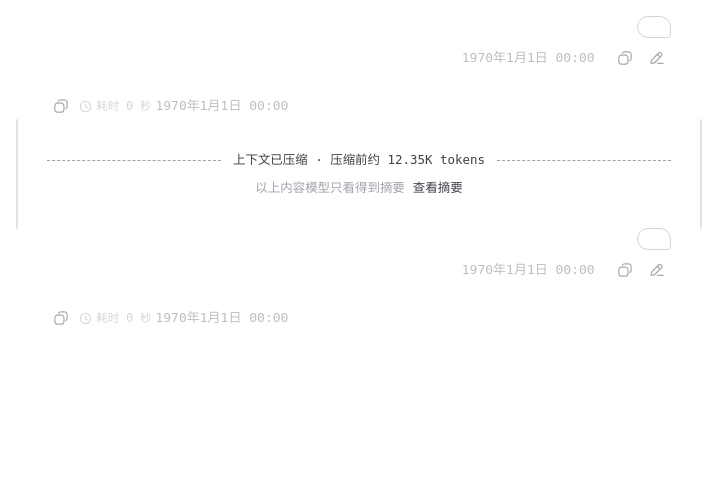
compaction divider › keeps messages above the divider editable and expands the summary
Expected: the text "上下文已压缩 · 压缩前约 12.35K tokens" is shown, x1=233 y1=148 x2=485 y2=172
Expected: the text "以上内容模型只看得到摘要" is shown, x1=255 y1=176 x2=405 y2=200
Click the button "查看摘要" at [438, 188], box x1=413 y1=176 x2=463 y2=200
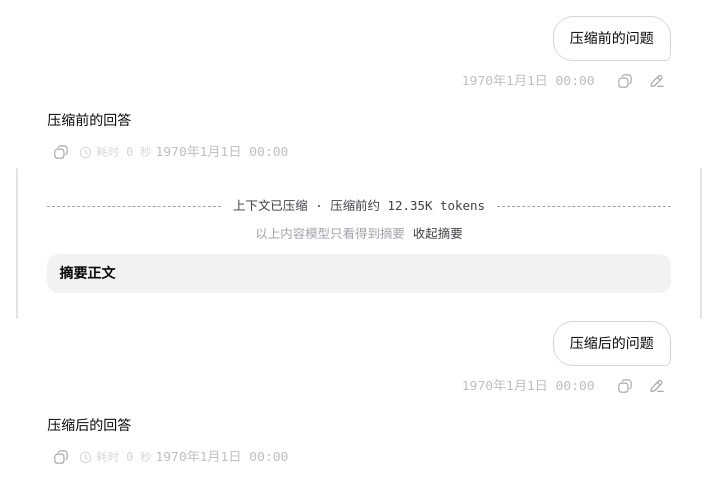
Expected: the button "收起摘要" is expanded, x1=413 y1=222 x2=463 y2=246
Expected: the text "摘要正文" is shown, x1=59 y1=265 x2=115 y2=281
